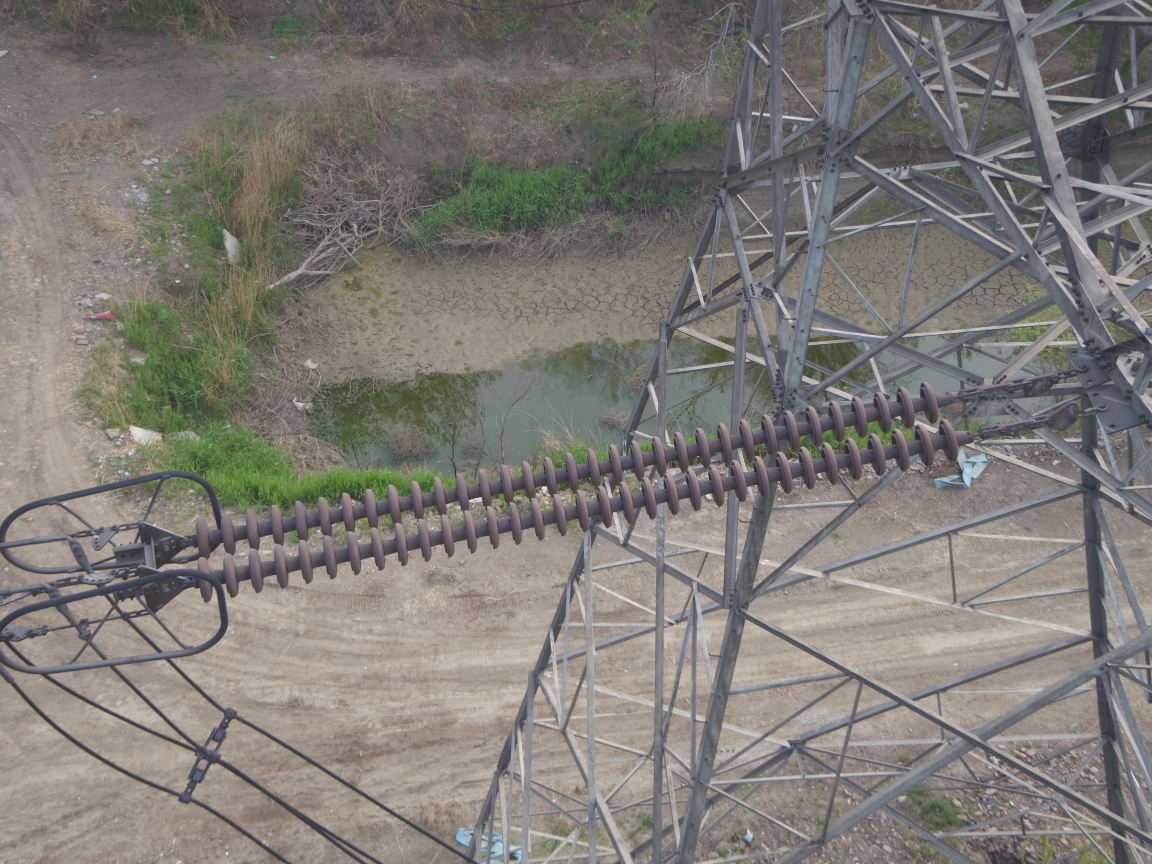insulator: (165, 380, 1001, 605)
